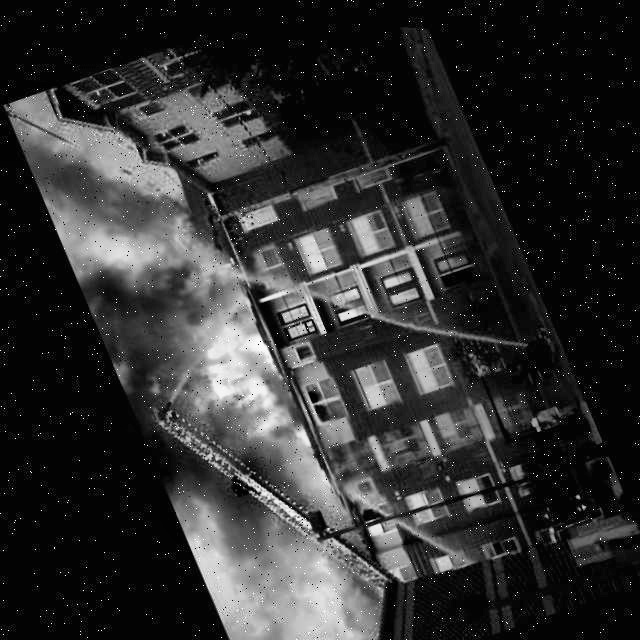Smoke: (89, 228, 316, 508)
